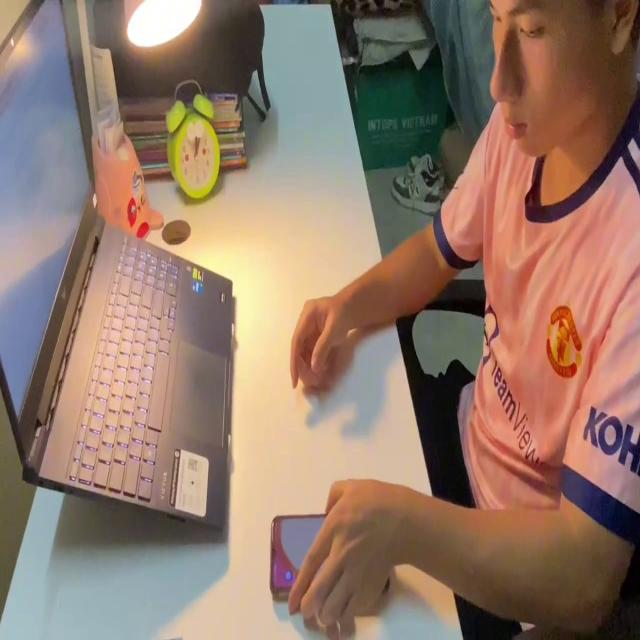laptop: (1, 0, 238, 532)
phone: (267, 507, 327, 602)
student: (285, 0, 640, 640)
